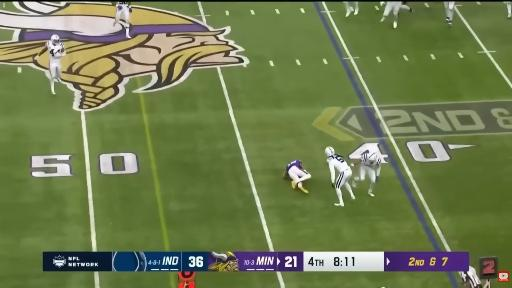Helmet: (51, 35, 60, 44), (325, 147, 334, 156), (369, 154, 377, 163), (299, 161, 302, 165)
Jersey: (327, 154, 350, 182), (327, 154, 349, 171), (361, 153, 382, 169), (47, 41, 64, 60), (286, 160, 303, 171), (117, 2, 128, 7)
Player: (35, 35, 65, 94), (325, 147, 355, 206), (353, 153, 382, 196), (283, 160, 311, 193), (113, 2, 131, 38), (381, 2, 402, 28), (444, 2, 454, 25), (344, 2, 359, 16), (401, 2, 413, 12), (507, 2, 511, 18)
